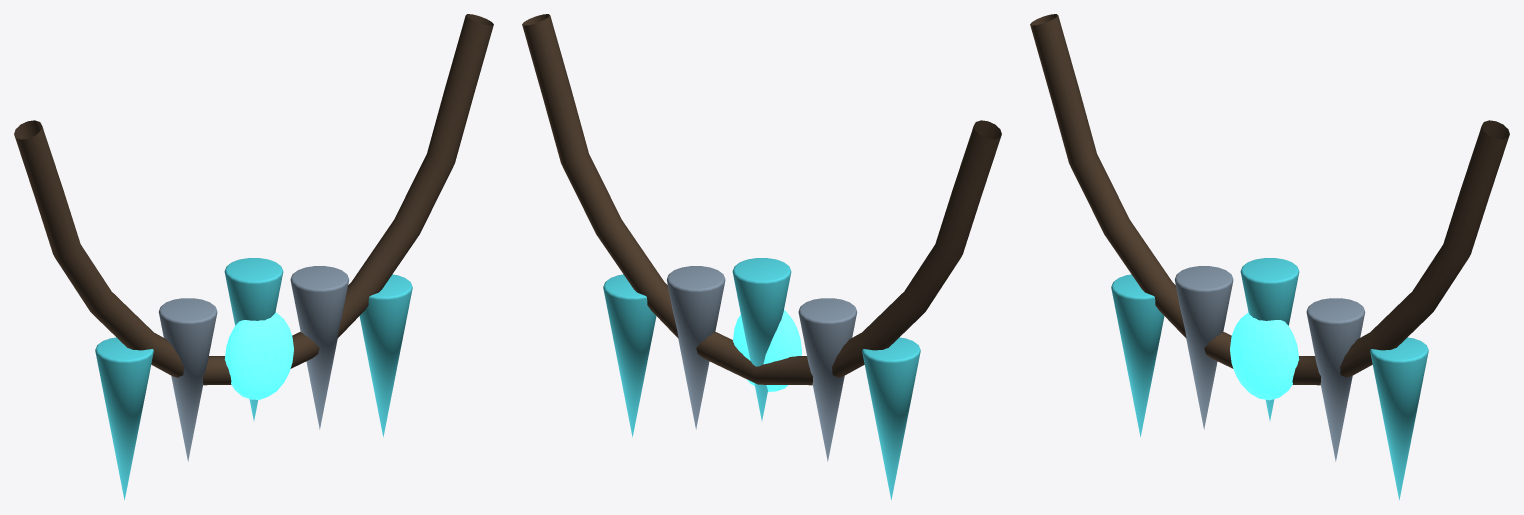
The model's file is necklace_v6.glb.
The picture shows the model from 3 angles, left to right: view 1: azimuth 30°, elevation 25°; view 2: azimuth 150°, elevation 25°; view 3: azimuth 330°, elevation 25°; orthographic projection.
Parts seen in each view (by area): view 1: FANG_CORD_SECONDARY, FANG_PRIMARY.001, FANG_ACCENT, FANG_PRIMARY, FANG_HEART_EMISSIVE, FANG_ACCENT.002, FANG_ACCENT.001; view 2: FANG_CORD_SECONDARY, FANG_PRIMARY.001, FANG_ACCENT, FANG_PRIMARY, FANG_ACCENT.001, FANG_ACCENT.002, FANG_HEART_EMISSIVE; view 3: FANG_CORD_SECONDARY, FANG_PRIMARY, FANG_ACCENT.002, FANG_PRIMARY.001, FANG_HEART_EMISSIVE, FANG_ACCENT, FANG_ACCENT.001.
Part boxes in pixels (x1=…): FANG_CORD_SECONDARY: x1=14, y1=14, x2=493, y2=385; FANG_PRIMARY.001: x1=290, y1=266, x2=348, y2=429; FANG_ACCENT: x1=95, y1=337, x2=153, y2=499; FANG_PRIMARY: x1=158, y1=298, x2=217, y2=461; FANG_HEART_EMISSIVE: x1=224, y1=312, x2=293, y2=399; FANG_ACCENT.002: x1=359, y1=274, x2=412, y2=436; FANG_ACCENT.001: x1=224, y1=258, x2=283, y2=420; FANG_CORD_SECONDARY: x1=522, y1=14, x2=1001, y2=385; FANG_PRIMARY.001: x1=667, y1=266, x2=725, y2=429; FANG_ACCENT: x1=862, y1=337, x2=920, y2=499; FANG_PRIMARY: x1=798, y1=298, x2=857, y2=461; FANG_ACCENT.001: x1=732, y1=258, x2=791, y2=420; FANG_ACCENT.002: x1=603, y1=274, x2=656, y2=436; FANG_HEART_EMISSIVE: x1=733, y1=309, x2=801, y2=391; FANG_CORD_SECONDARY: x1=1030, y1=14, x2=1509, y2=385; FANG_PRIMARY: x1=1175, y1=266, x2=1233, y2=429; FANG_ACCENT.002: x1=1370, y1=337, x2=1428, y2=499; FANG_PRIMARY.001: x1=1306, y1=298, x2=1365, y2=461; FANG_HEART_EMISSIVE: x1=1230, y1=312, x2=1299, y2=400; FANG_ACCENT: x1=1111, y1=274, x2=1164, y2=436; FANG_ACCENT.001: x1=1240, y1=258, x2=1299, y2=420.
Bounding box in the file's own units: 2.02 × 1.62 × 0.2281.
